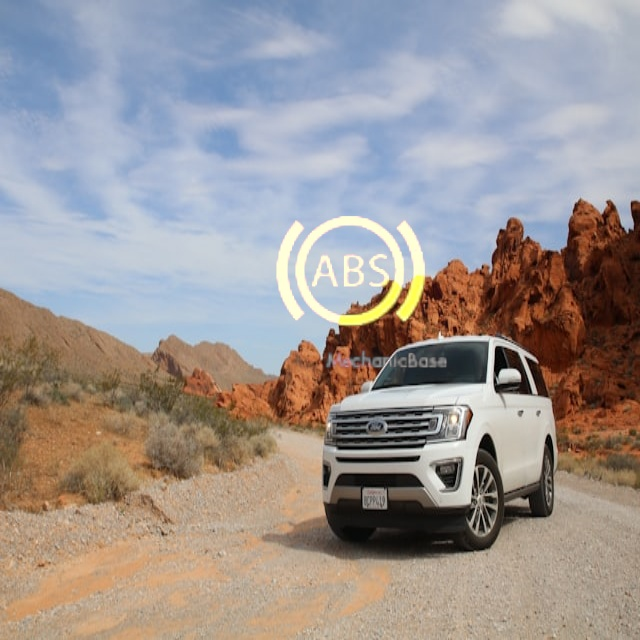symbol: (244, 167, 455, 378)
